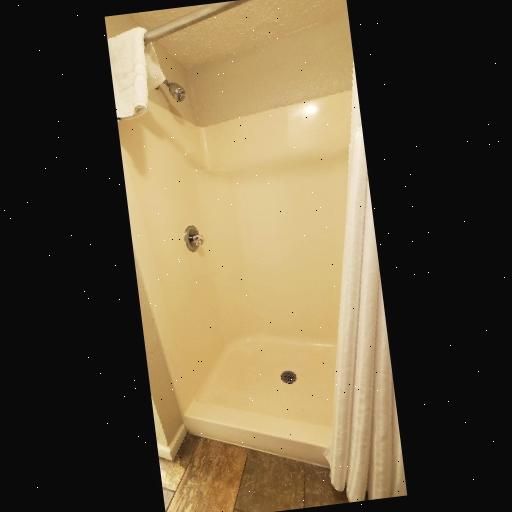clean_bathtub: (147, 229, 353, 451)
